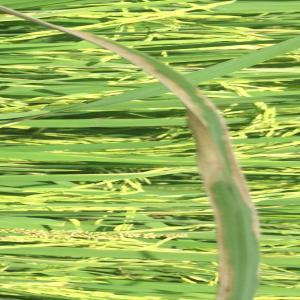2 BacterialBlight: (199, 122, 261, 300)
